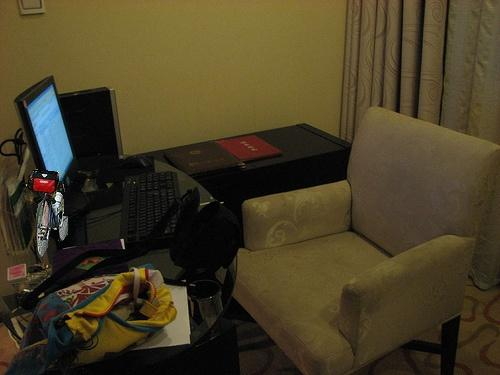tampered: (27, 170, 68, 257)
